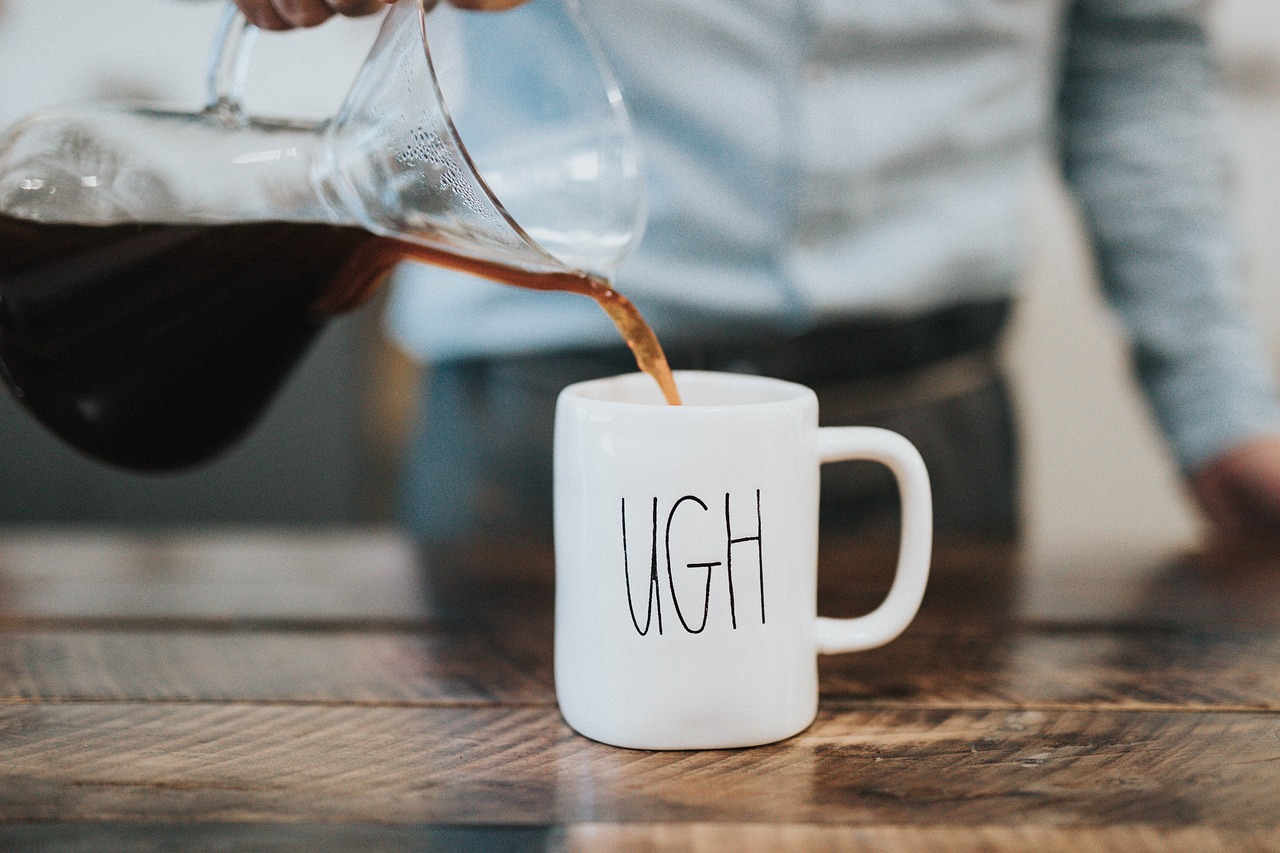mug: (519, 346, 941, 775)
